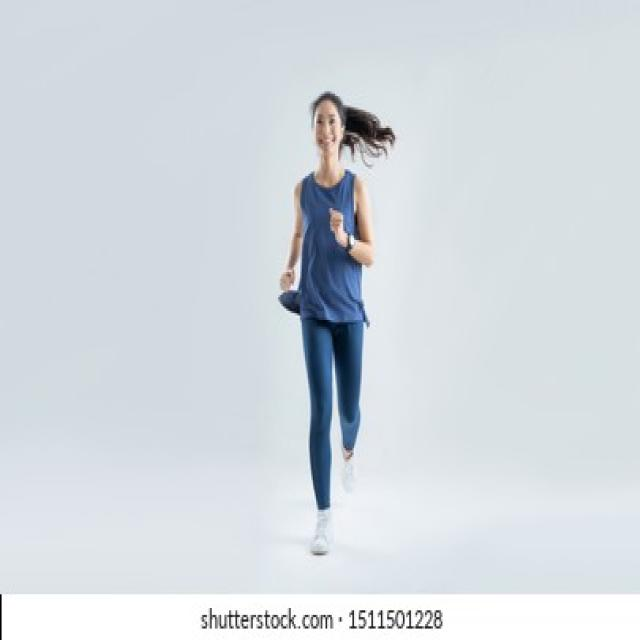running: (277, 89, 379, 557)
